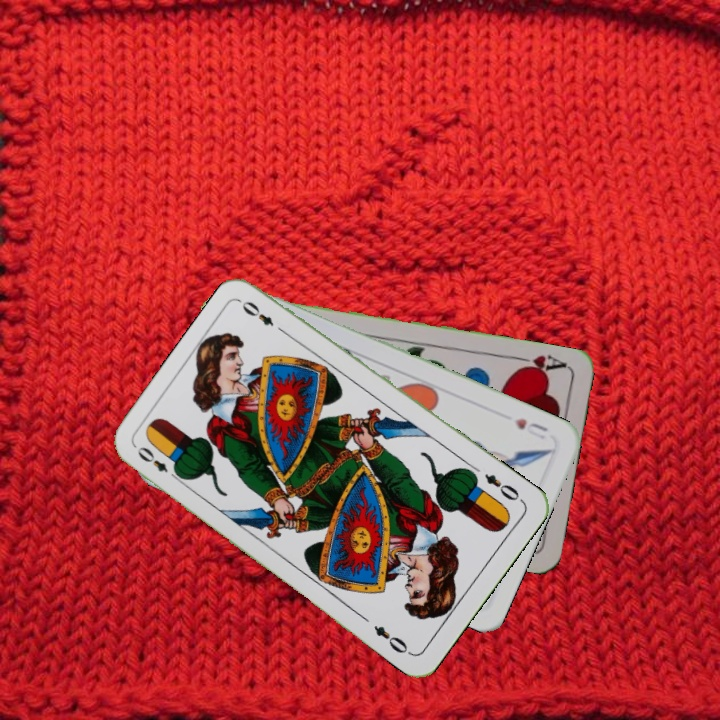EO: (133, 442, 183, 484), (480, 469, 522, 504)
HA: (510, 351, 569, 378)
HU: (511, 413, 551, 443)
